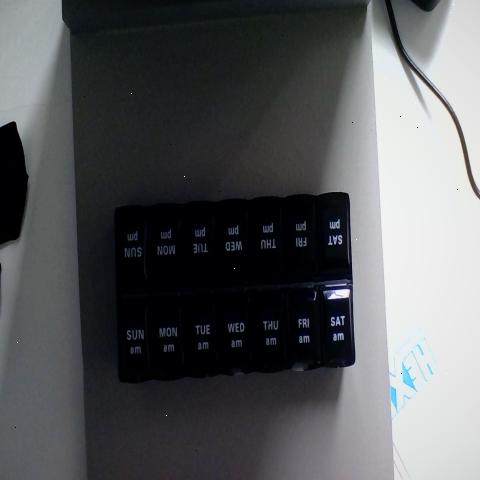FRI-am: (287, 288, 319, 368)
FRI-pm: (284, 196, 316, 270)
MON-am: (151, 299, 181, 378)
MON-pm: (148, 210, 183, 284)
PillBox: (91, 163, 370, 394)
SAT-am: (317, 282, 354, 365)
SAT-pm: (317, 193, 351, 267)
SUN-am: (118, 299, 150, 381)
SUN-pm: (115, 210, 148, 288)
THU-am: (253, 292, 288, 372)
THU-pm: (251, 197, 284, 276)
TUE-am: (184, 293, 218, 377)
TUE-pm: (184, 203, 213, 285)
WED-am: (218, 294, 252, 376)
WED-pm: (214, 202, 247, 283)
